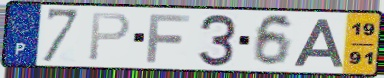3: (195, 12, 240, 69)
6: (248, 12, 297, 71)
7: (41, 7, 83, 64)
A: (291, 17, 346, 69)
F: (144, 12, 192, 65)
P: (86, 11, 133, 63)
